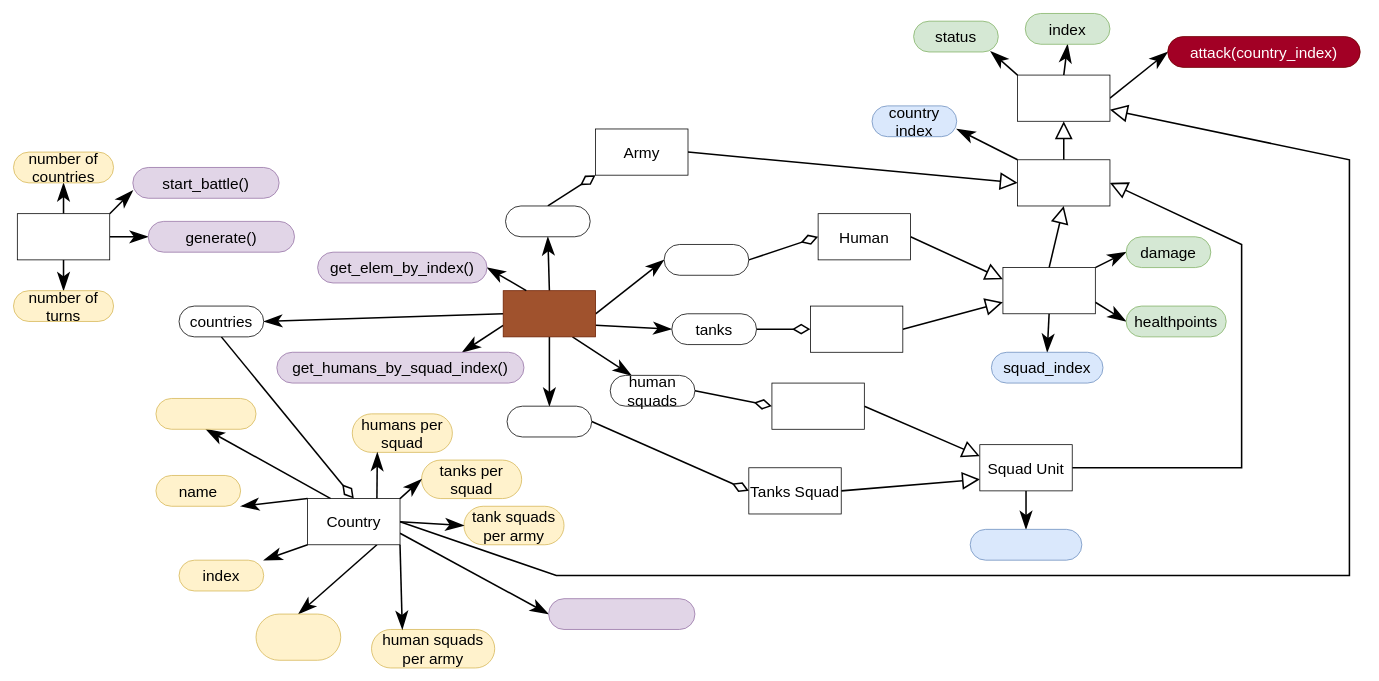
Image size: 1379x681. Some labels were removed from this diagram. Each missing label, with the centre of its shape:
"armies" goes at [547,221].
"army_index" goes at [1025,544].
"Base Unit" goes at [1063,97].
"Battle Unit" goes at [1048,290].
"generate_units()" goes at [621,613].
"human count" goes at [298,636].
"Human Squad" goes at [817,405].
"humans" goes at [706,259].
"Storage" goes at [549,313].
"Tank" goes at [856,328].
"tanks count" goes at [205,413].
"tanks squads" goes at [549,421].
"Unit" goes at [1063,182].
"War" goes at [63,236].
